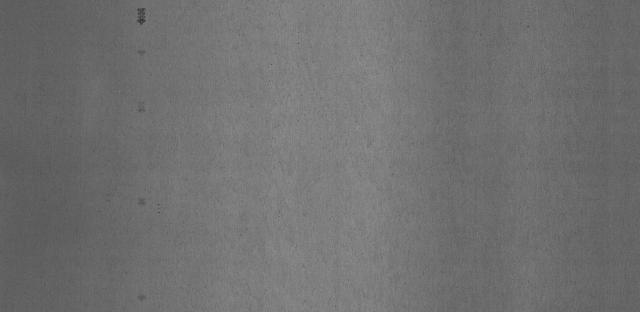oil_spot: (132, 96, 149, 118), (132, 6, 149, 25), (134, 193, 148, 212), (134, 291, 149, 306), (135, 47, 148, 59)
silk_spot: (209, 10, 392, 283)
